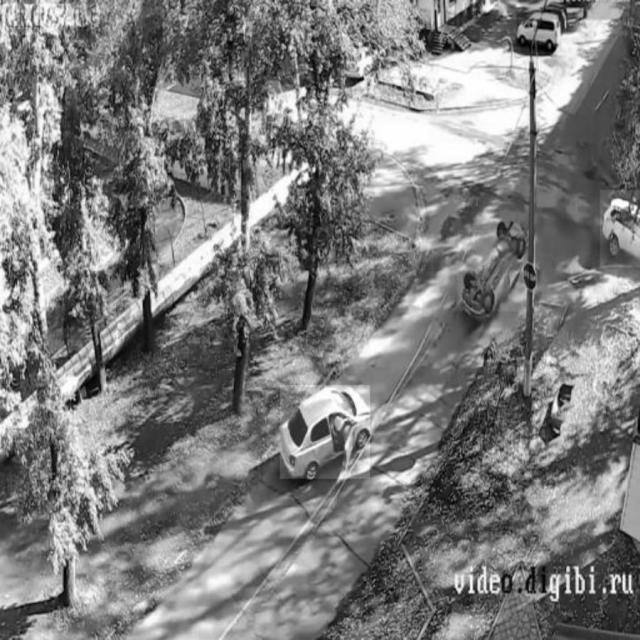vehicle: (280, 385, 370, 478), (458, 231, 529, 312), (600, 191, 640, 268), (517, 11, 562, 53)
